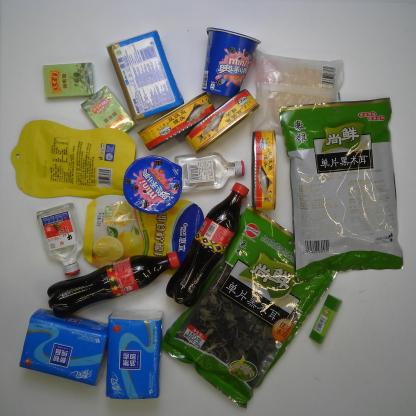Alcohol: (27, 192, 89, 282), (168, 142, 254, 202)
Candy: (26, 52, 104, 100), (81, 84, 136, 143)
Canned Food: (177, 83, 266, 156), (139, 78, 218, 154), (249, 117, 286, 226)
Dessert: (246, 42, 357, 144), (190, 14, 260, 103), (119, 143, 188, 218)
Dried Food: (156, 204, 360, 413), (275, 94, 416, 280)
Dried Fruit: (76, 178, 206, 274), (7, 111, 140, 201)
Drink: (166, 174, 256, 309), (32, 241, 185, 319)
Stationery: (305, 286, 345, 356)
Tissue: (96, 22, 186, 130), (6, 304, 110, 389), (100, 308, 179, 408)
